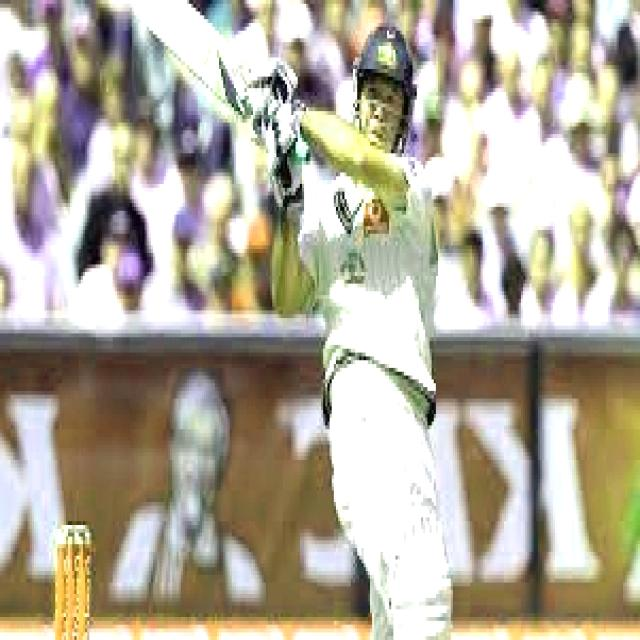toe: (134, 1, 192, 28)
